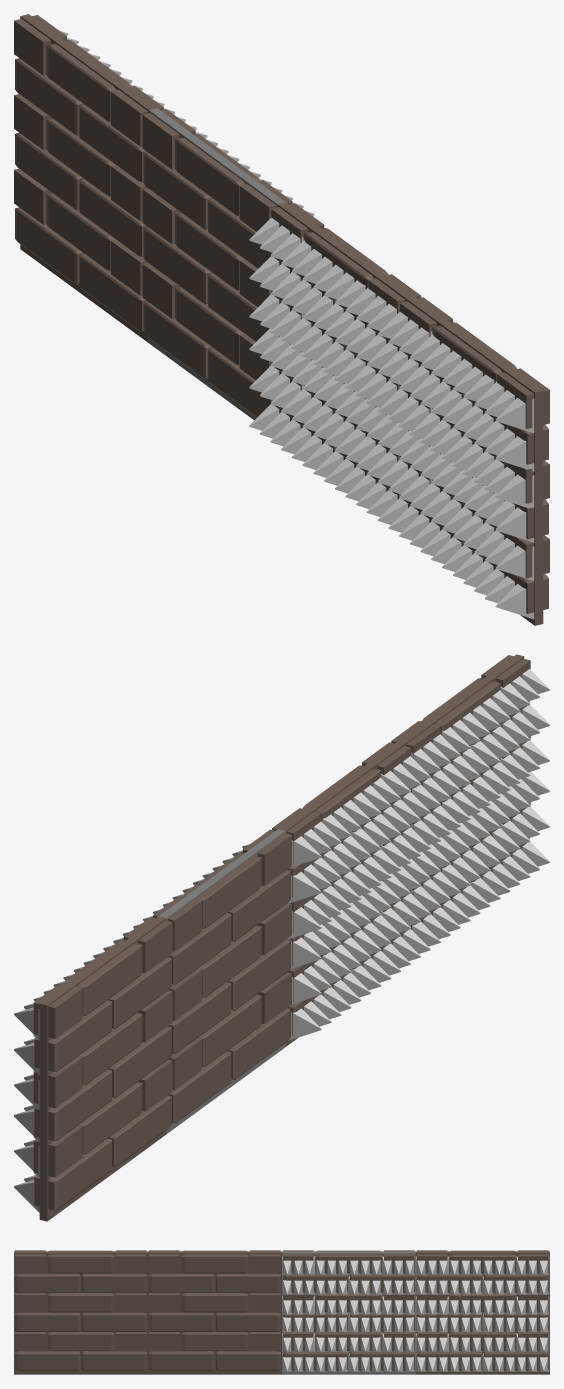
Rendered from Spinning Spike Wall.fbx.
The picture shows the model from 3 angles, top to bottom: view 1: azimuth 30°, elevation 25°; view 2: azimuth 150°, elevation 25°; view 3: azimuth 270°, elevation 25°; orthographic projection. The views are drawn at different scales.
Visible parts, largest first — view 1: Spikes; view 2: Spikes; view 3: Spikes.
Part boxes in pixels (x1,y1,x2,y2): Spikes: [14, 14, 549, 625]; Spikes: [14, 654, 549, 1221]; Spikes: [14, 1250, 549, 1374].
Bounding box in the file's own units: 135 × 400 × 1600.
